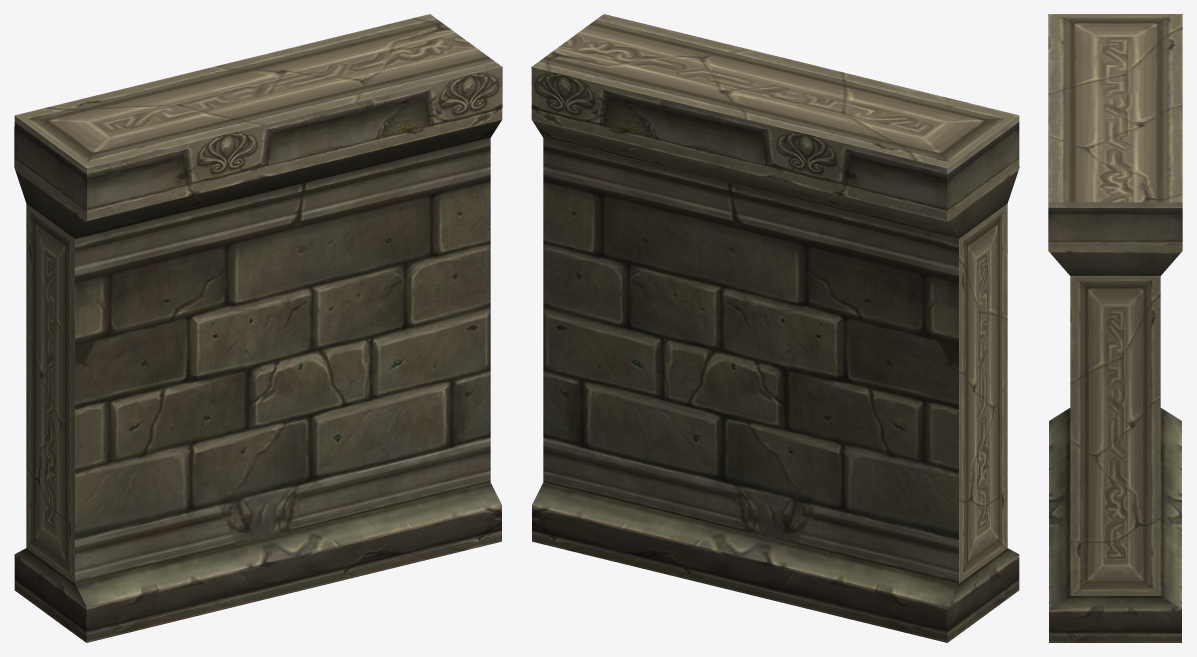
Rendered from F_neiqiang011.fbx.
3 renders of one model, left to right at view 1: azimuth 30°, elevation 25°; view 2: azimuth 150°, elevation 25°; view 3: azimuth 270°, elevation 25°, orthographic. The views are drawn at different scales.
Parts seen in each view (by area): view 1: F_neiqiang011; view 2: F_neiqiang011; view 3: F_neiqiang011.
Part boxes in pixels (box(x1,y1,x2,y2)): F_neiqiang011: box(14, 14, 502, 642); F_neiqiang011: box(531, 14, 1019, 642); F_neiqiang011: box(1048, 14, 1182, 642).
Bounding box in the file's own units: 303 × 331 × 91.42.
